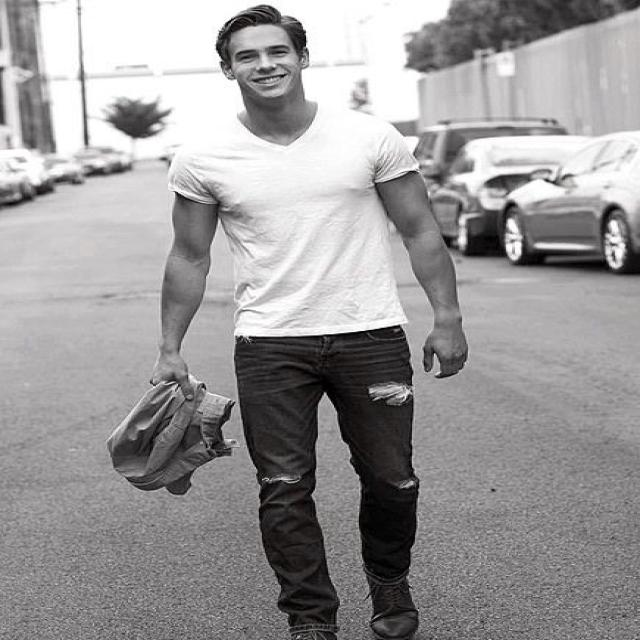shoulder: (174, 101, 412, 208)
